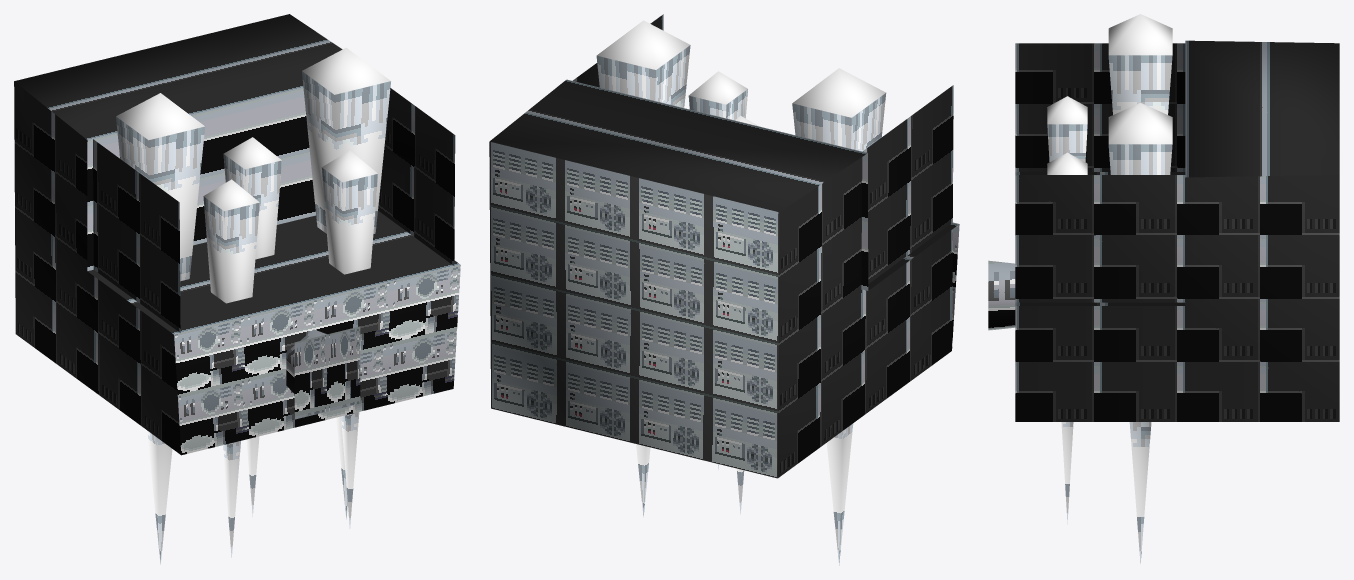
File: 3487IMEL01_04.gltf
3 renders of one model, left to right at view 1: azimuth 30°, elevation 25°; view 2: azimuth 150°, elevation 25°; view 3: azimuth 270°, elevation 25°, orthographic. The views are drawn at different scales.
Parts seen in each view (by area): view 1: 3487IMEL01_04; view 2: 3487IMEL01_04; view 3: 3487IMEL01_04.
Part boxes in pixels (box(x1,y1,x2,y2)): 3487IMEL01_04: box(14, 14, 460, 564); 3487IMEL01_04: box(489, 14, 959, 565); 3487IMEL01_04: box(988, 14, 1339, 564).
Bounding box in the file's own units: 0.7896 × 1.24 × 0.8552.
Materials: 4 (4 with a texture image).
